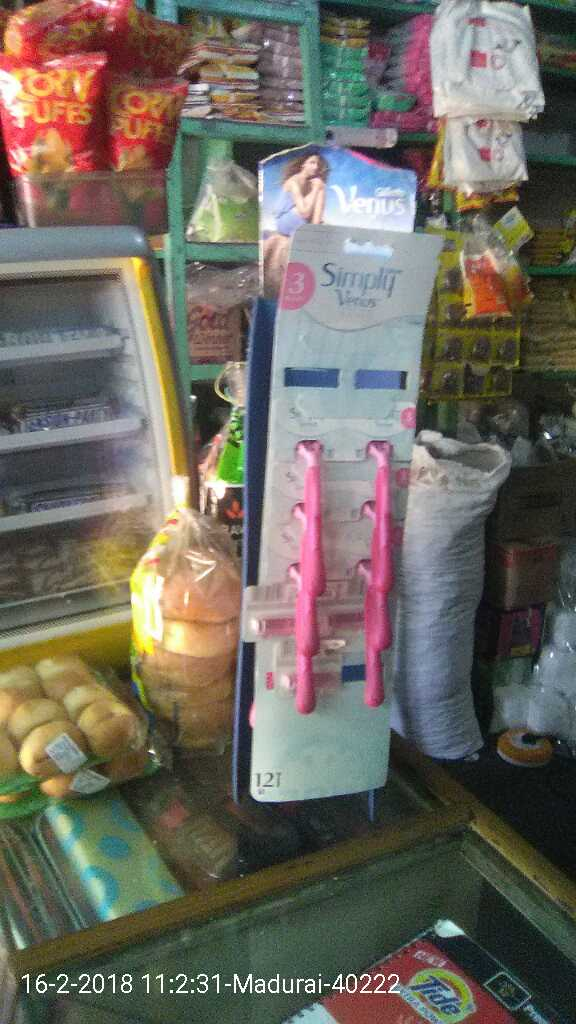reject: (291, 336, 359, 439)
